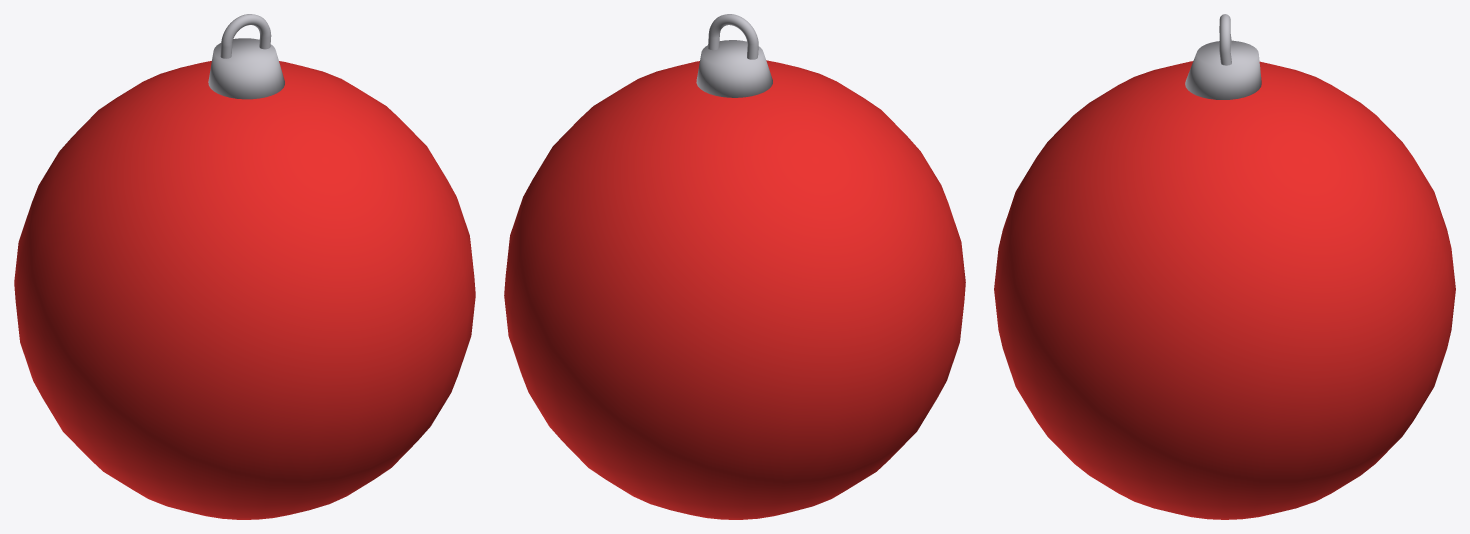
File: RedBall.fbx
3 renders of one model, left to right at view 1: azimuth 30°, elevation 25°; view 2: azimuth 150°, elevation 25°; view 3: azimuth 270°, elevation 25°, orthographic.
Visible parts, largest first — view 1: Sphere; view 2: Sphere; view 3: Sphere.
Part boxes in pixels (x1,y1,x2,y2): Sphere: (14, 14, 475, 519); Sphere: (504, 14, 965, 519); Sphere: (994, 14, 1455, 519).
Bounding box in the file's own units: 2 × 2.31 × 2.
